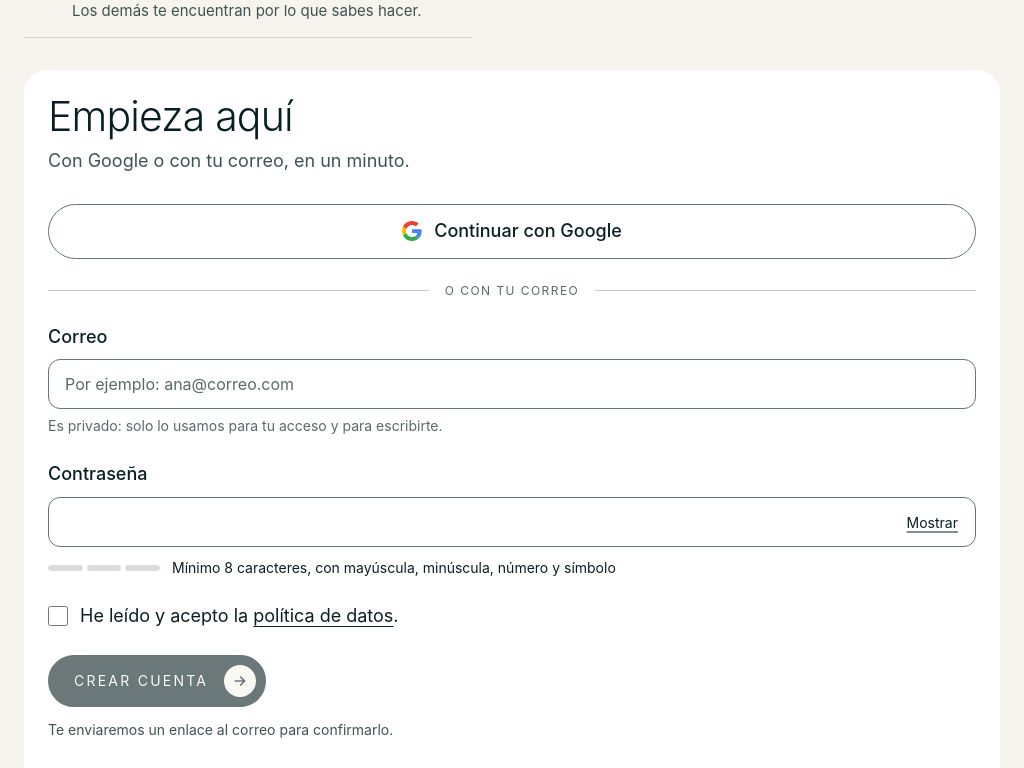
RegistroView › dice qué regla falta en la contraseña, en el idioma de la persona
The width and height of the screenshot is (1024, 768).
(page scrolled)
Type "Ana@Correo.com" into the field labelled "Correo" at (512, 384), box [48,359,976,409]
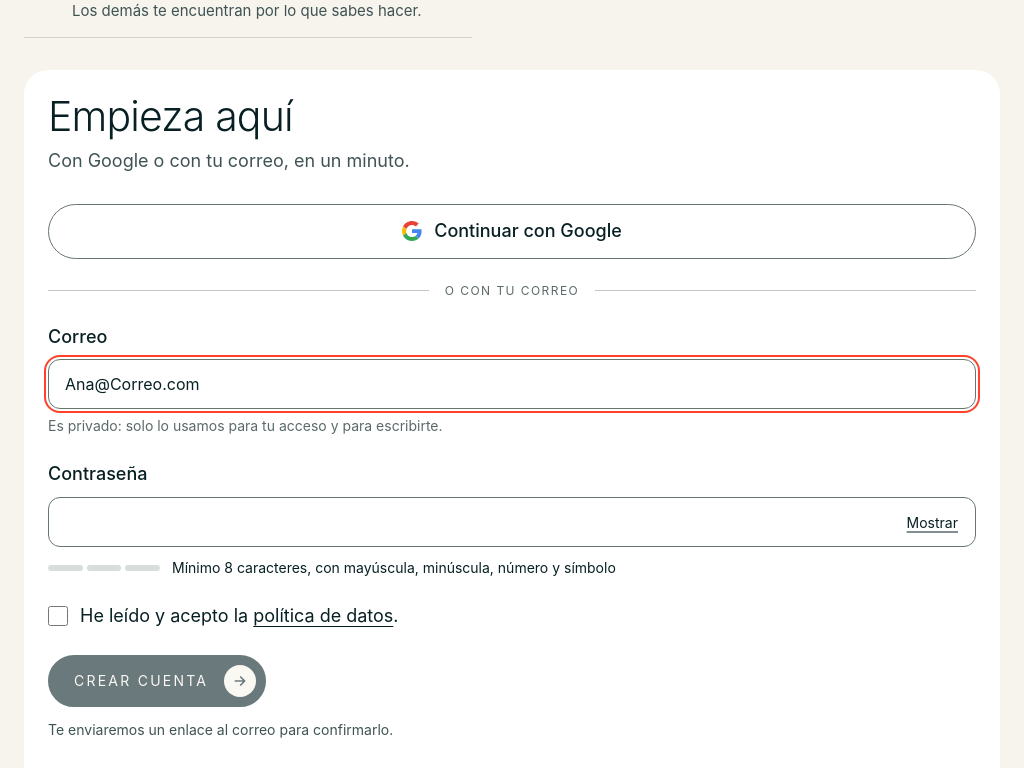
Type "clave-segura-9" into the password field labelled "Contraseña" at (512, 522), box [48,497,976,547]
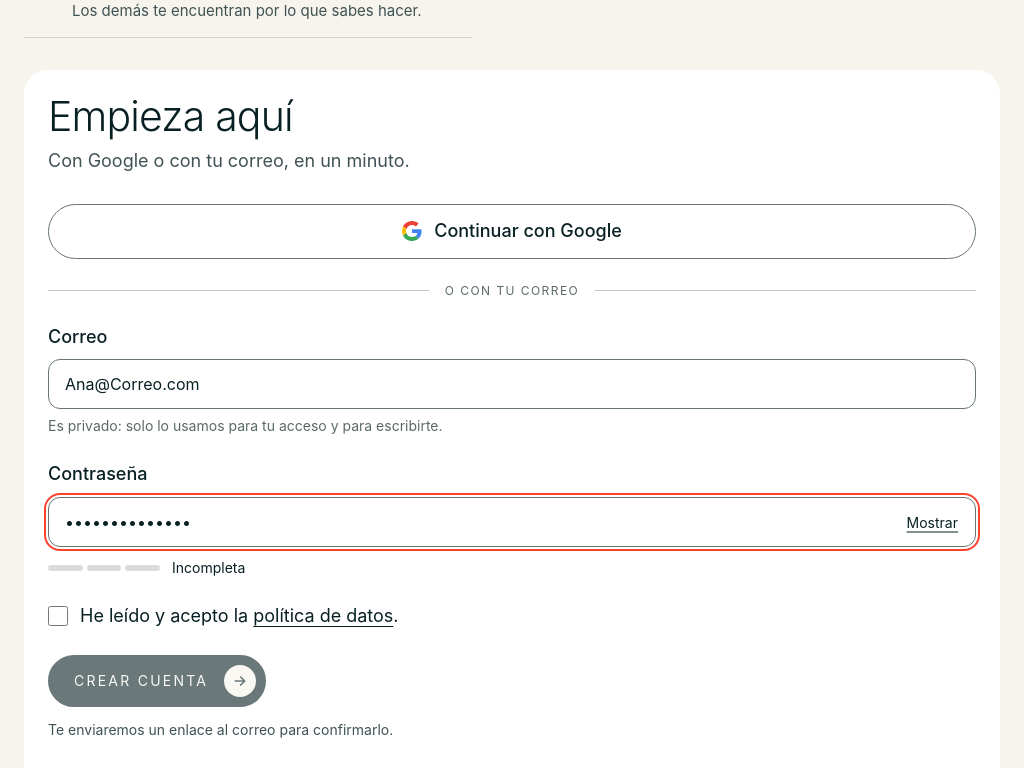
Click the checkbox labelled "He leído y acepto la política de datos ." at (58, 616), box [48,606,68,626]
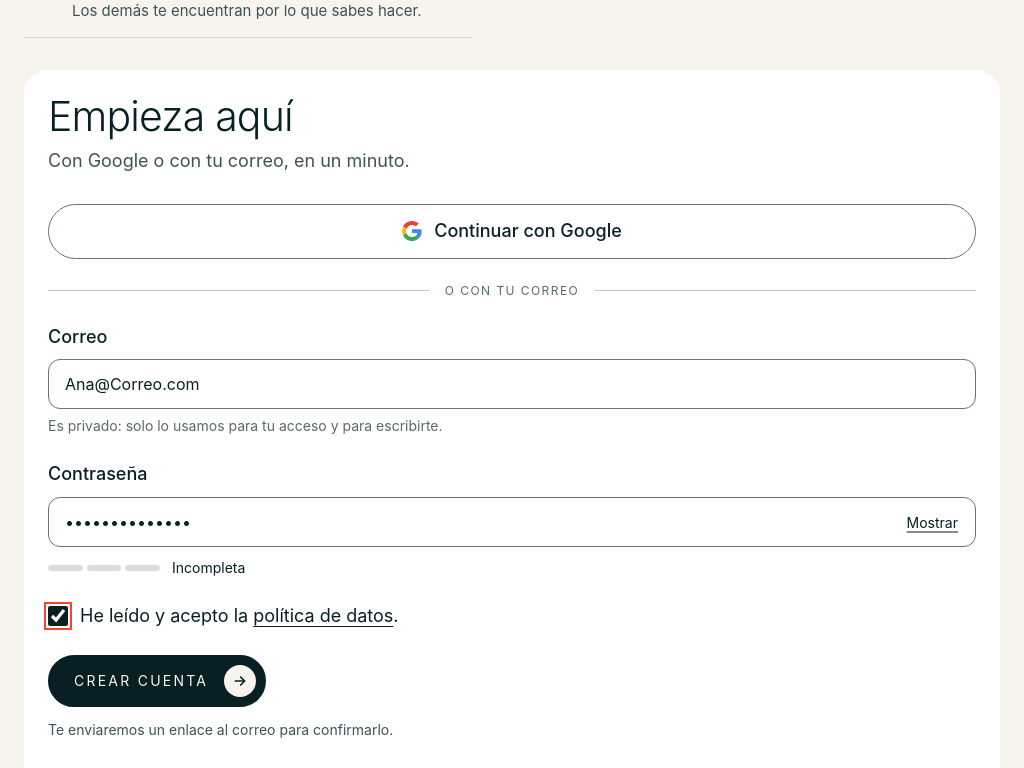
Click the button "Crear cuenta" at (157, 681), box [48,655,266,707]
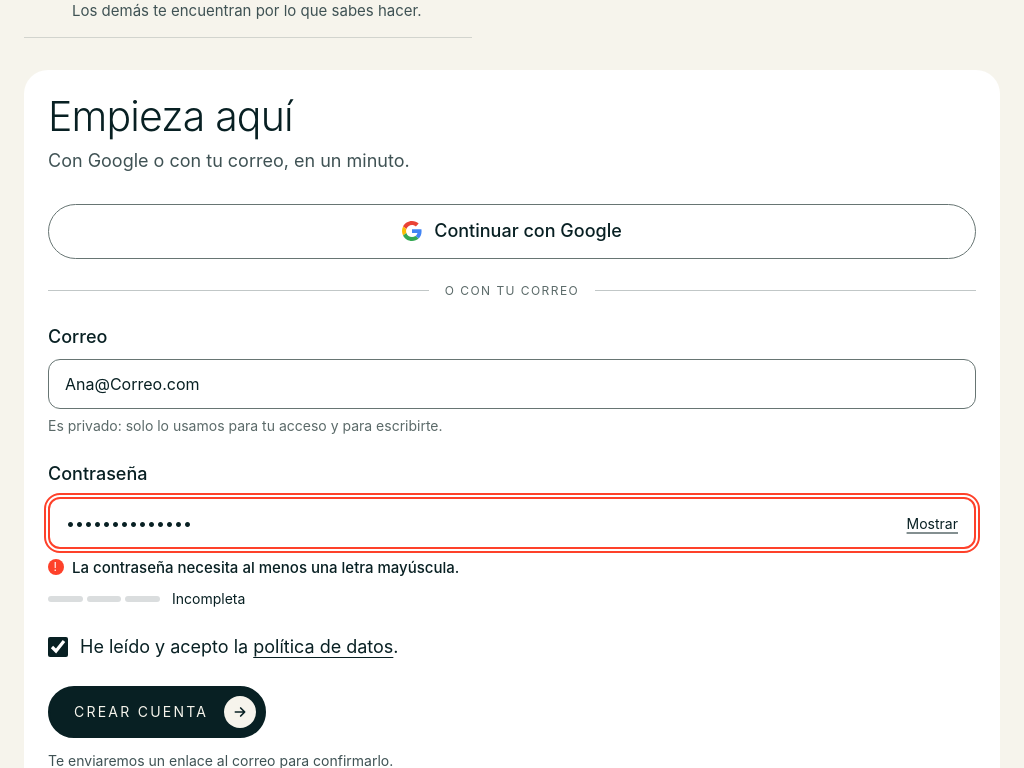
Result: the text "La contraseña necesita al menos una letra mayúscula." is shown at [72,557,459,578]
